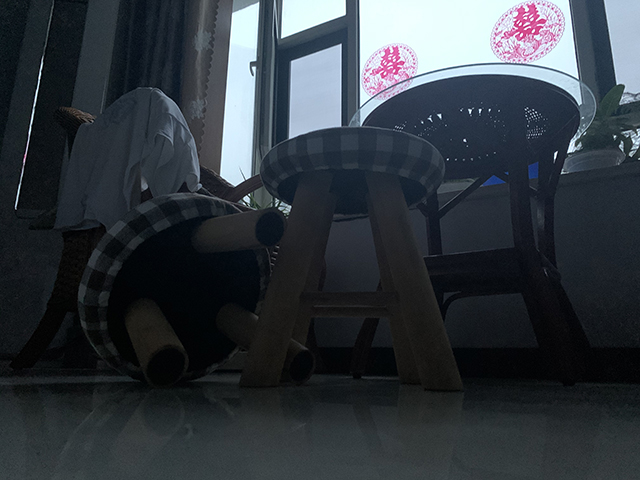stool: (237, 126, 469, 396), (77, 190, 317, 389)
table: (346, 61, 601, 389)
